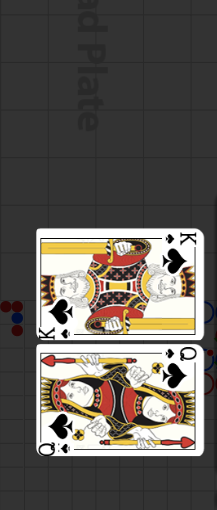9S: (38, 440, 74, 455)
KS: (162, 230, 200, 247)
